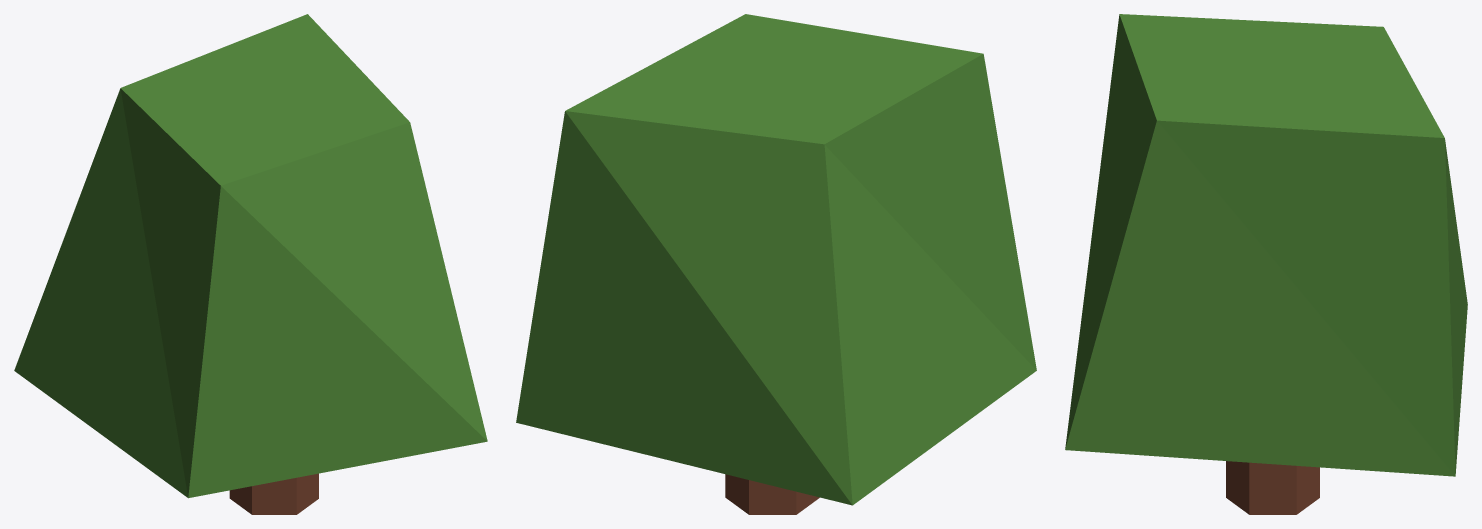
File: Bush_11_summer_vc.fbx
3 views of the same model, side by side, from view 1: azimuth 30°, elevation 25°; view 2: azimuth 150°, elevation 25°; view 3: azimuth 270°, elevation 25° (orthographic). The views are drawn at different scales.
Parts seen in each view (by area): view 1: Bush_11_summer_vc; view 2: Bush_11_summer_vc; view 3: Bush_11_summer_vc.
Part boxes in pixels (x1,y1,x2,y2): Bush_11_summer_vc: (14, 14, 487, 514); Bush_11_summer_vc: (516, 14, 1036, 514); Bush_11_summer_vc: (1065, 14, 1467, 514).
Size of the model in its own units: 50.88 by 59.59 by 51.95.
